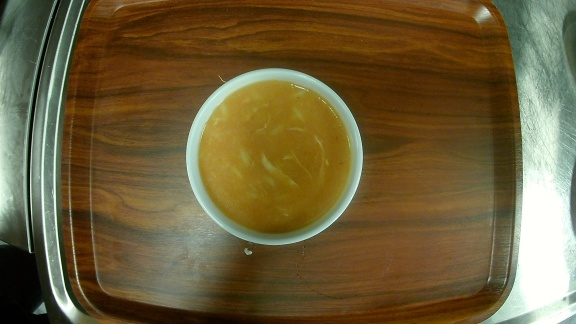tavukcorba: (186, 68, 367, 247)
